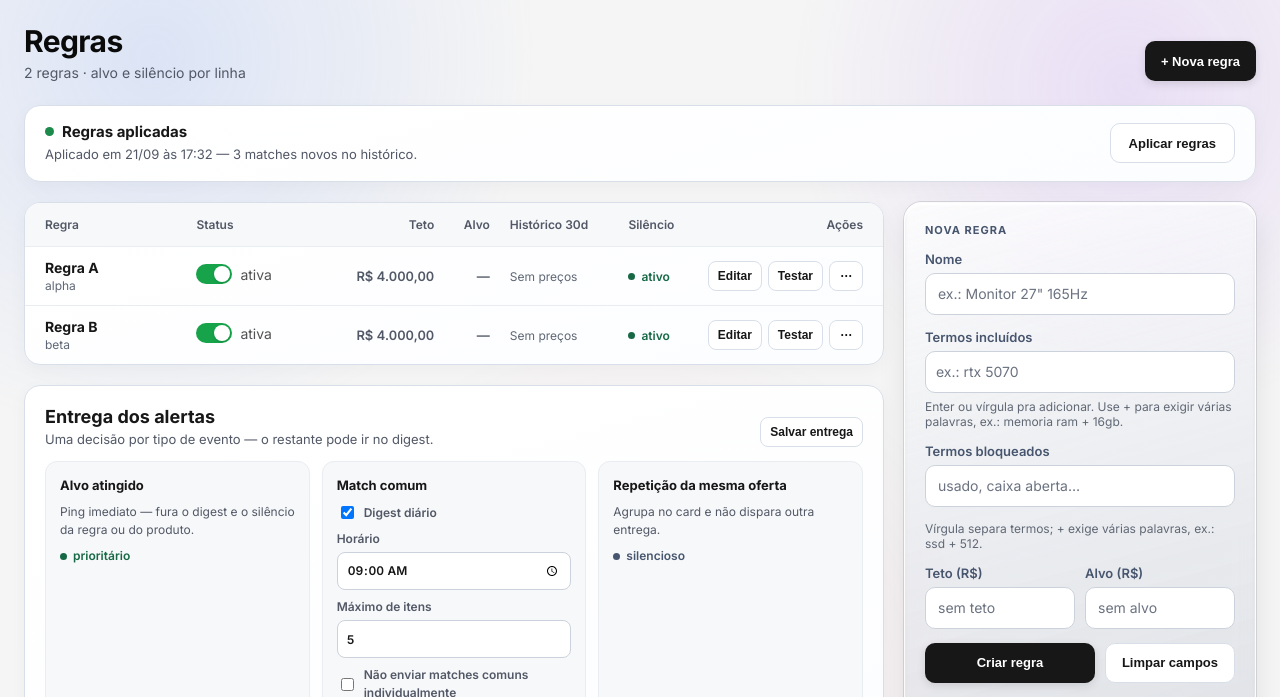
it: RegrasPage › S13-07: an older response cannot overwrite the tester after switching rules
Click the button "Testar" in the row of "Regra A".
click(795, 276)  # box [768,261,823,291]
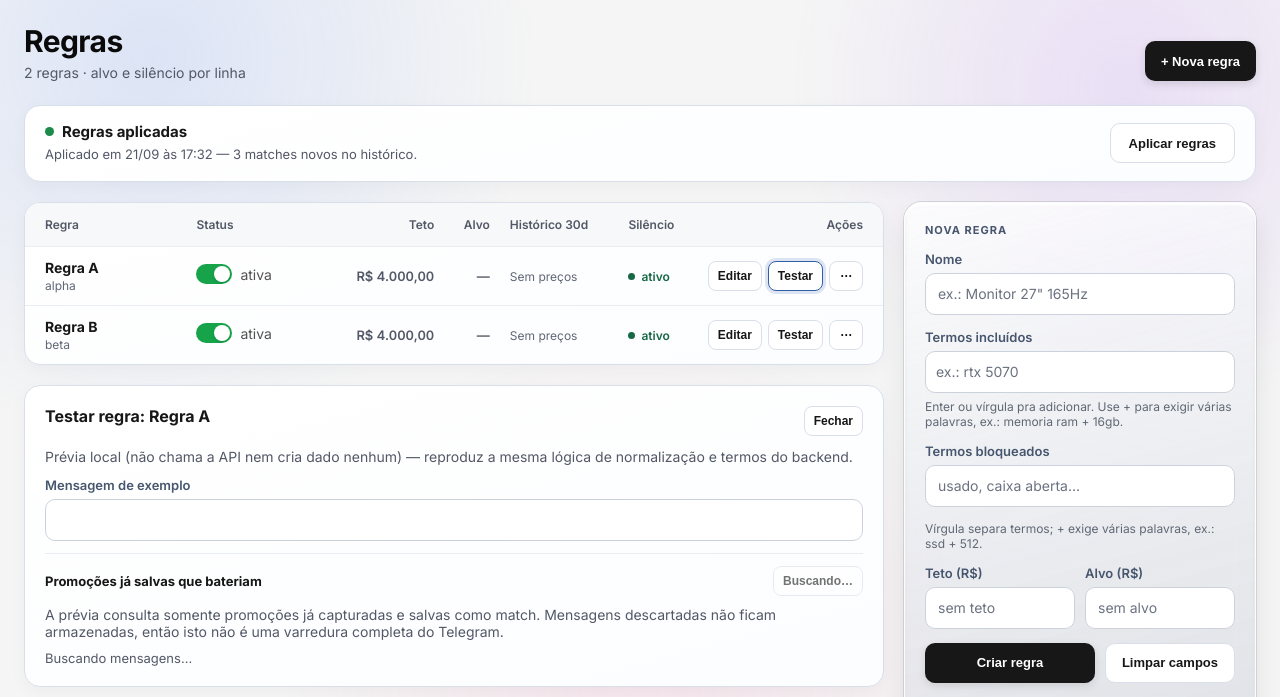
Click the button "Testar" in the row of "Regra B".
click(795, 335)  # box [768,320,823,350]
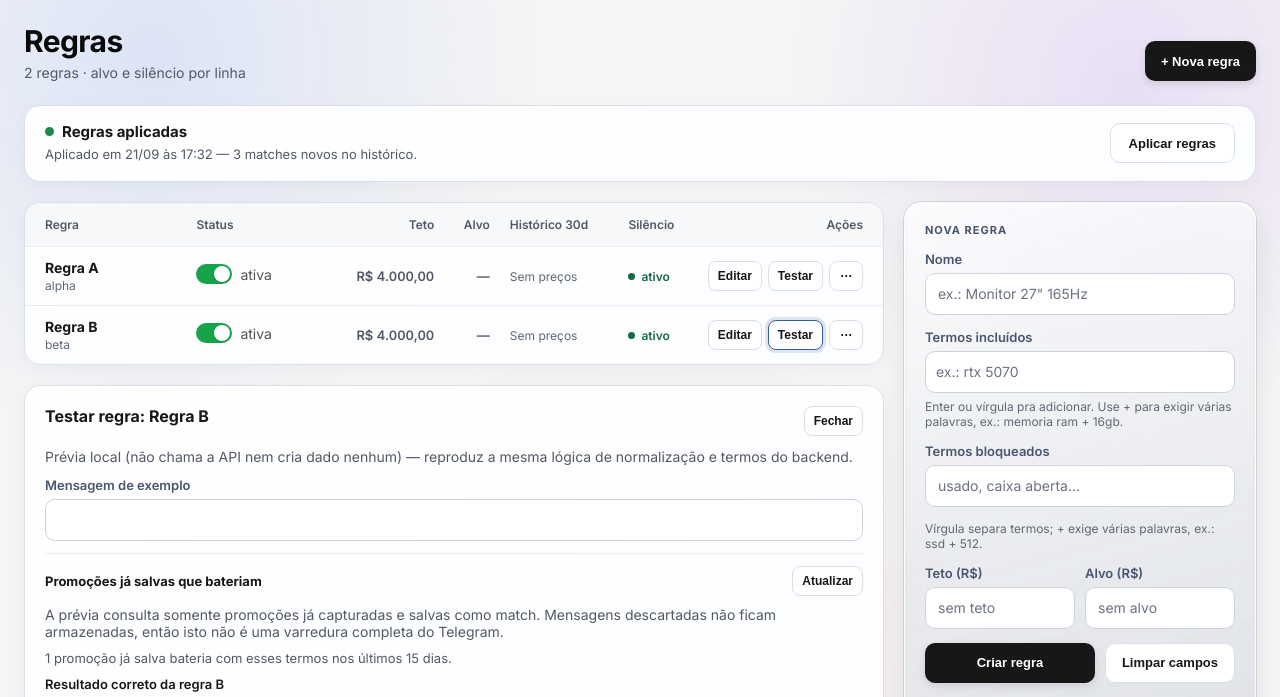
expect the heading "Testar regra: Regra B" is shown: met, box [45,406,209,426]
expect the text "Resultado correto da regra B" is shown: met, box [45,676,224,692]
